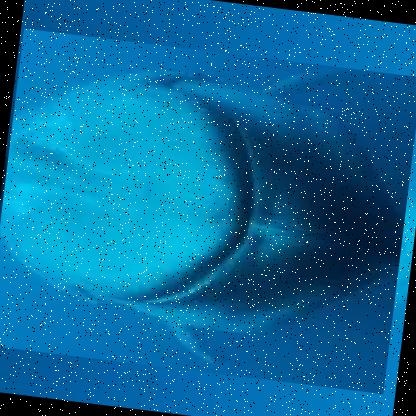blue_whale: (0, 26, 415, 394)
